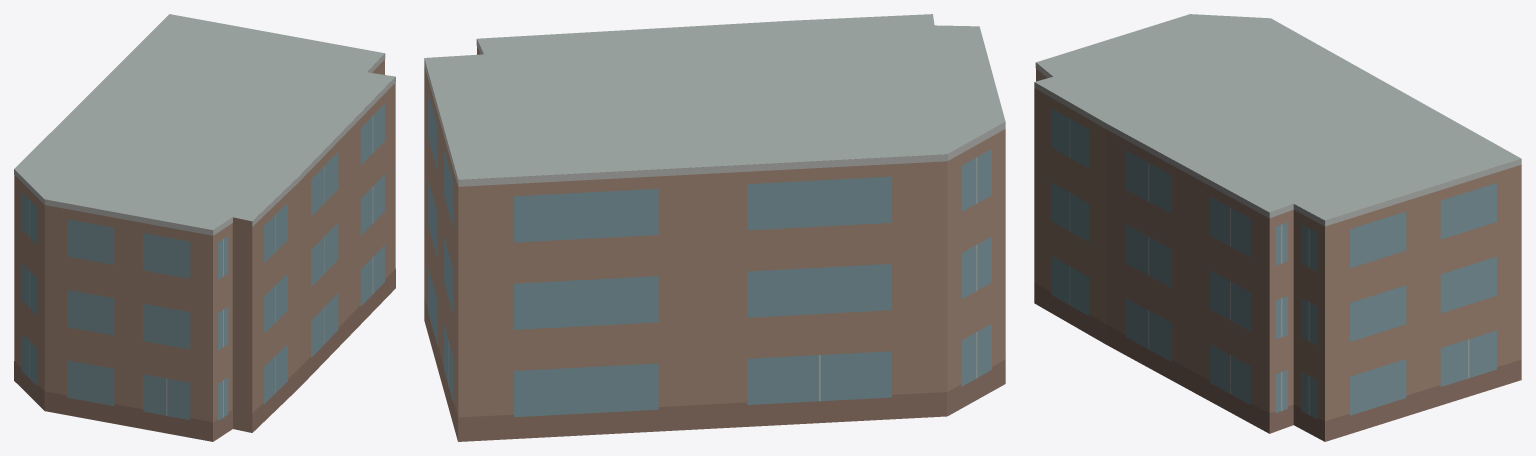
The model's file is survey-upis-32679913.glb.
3 renders of one model, left to right at view 1: azimuth 30°, elevation 25°; view 2: azimuth 150°, elevation 25°; view 3: azimuth 270°, elevation 25°, orthographic. The views are drawn at different scales.
Visible parts, largest first — view 1: survey-upis-32679913.tmp; view 2: survey-upis-32679913.tmp; view 3: survey-upis-32679913.tmp.
Part boxes in pixels (x1,y1,x2,y2): survey-upis-32679913.tmp: [14, 14, 395, 441]; survey-upis-32679913.tmp: [424, 14, 1005, 441]; survey-upis-32679913.tmp: [1034, 14, 1521, 441].
Size of the model in its own units: 18.33 by 9.15 by 18.27.
